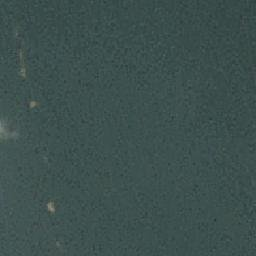debris: (46, 201, 56, 214), (29, 101, 37, 109)
